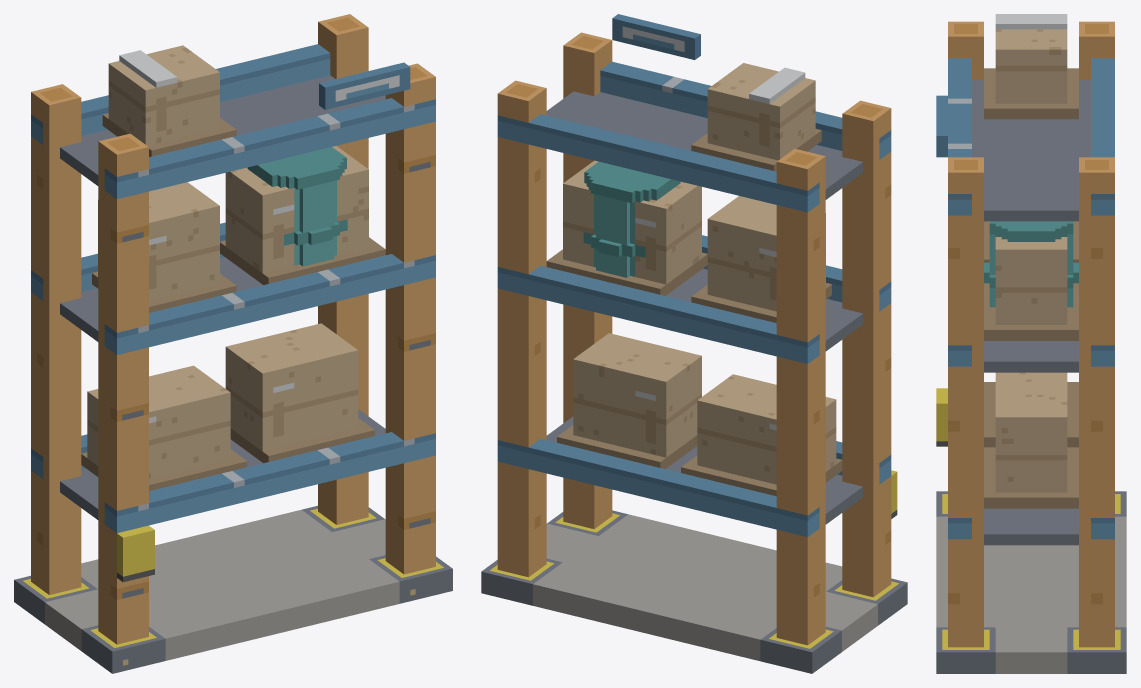
Rendered from storage_rack.glb.
The picture shows the model from 3 angles, left to right: view 1: azimuth 30°, elevation 25°; view 2: azimuth 150°, elevation 25°; view 3: azimuth 270°, elevation 25°; orthographic projection. The views are drawn at different scales.
Visible parts, largest first — view 1: storage_rack; view 2: storage_rack; view 3: storage_rack.
Part boxes in pixels (<box>): storage_rack: <box>14,14,452,673</box>; storage_rack: <box>481,14,907,673</box>; storage_rack: <box>936,14,1126,673</box>.
Bounding box in the file's own units: 2 × 3.09 × 1.
